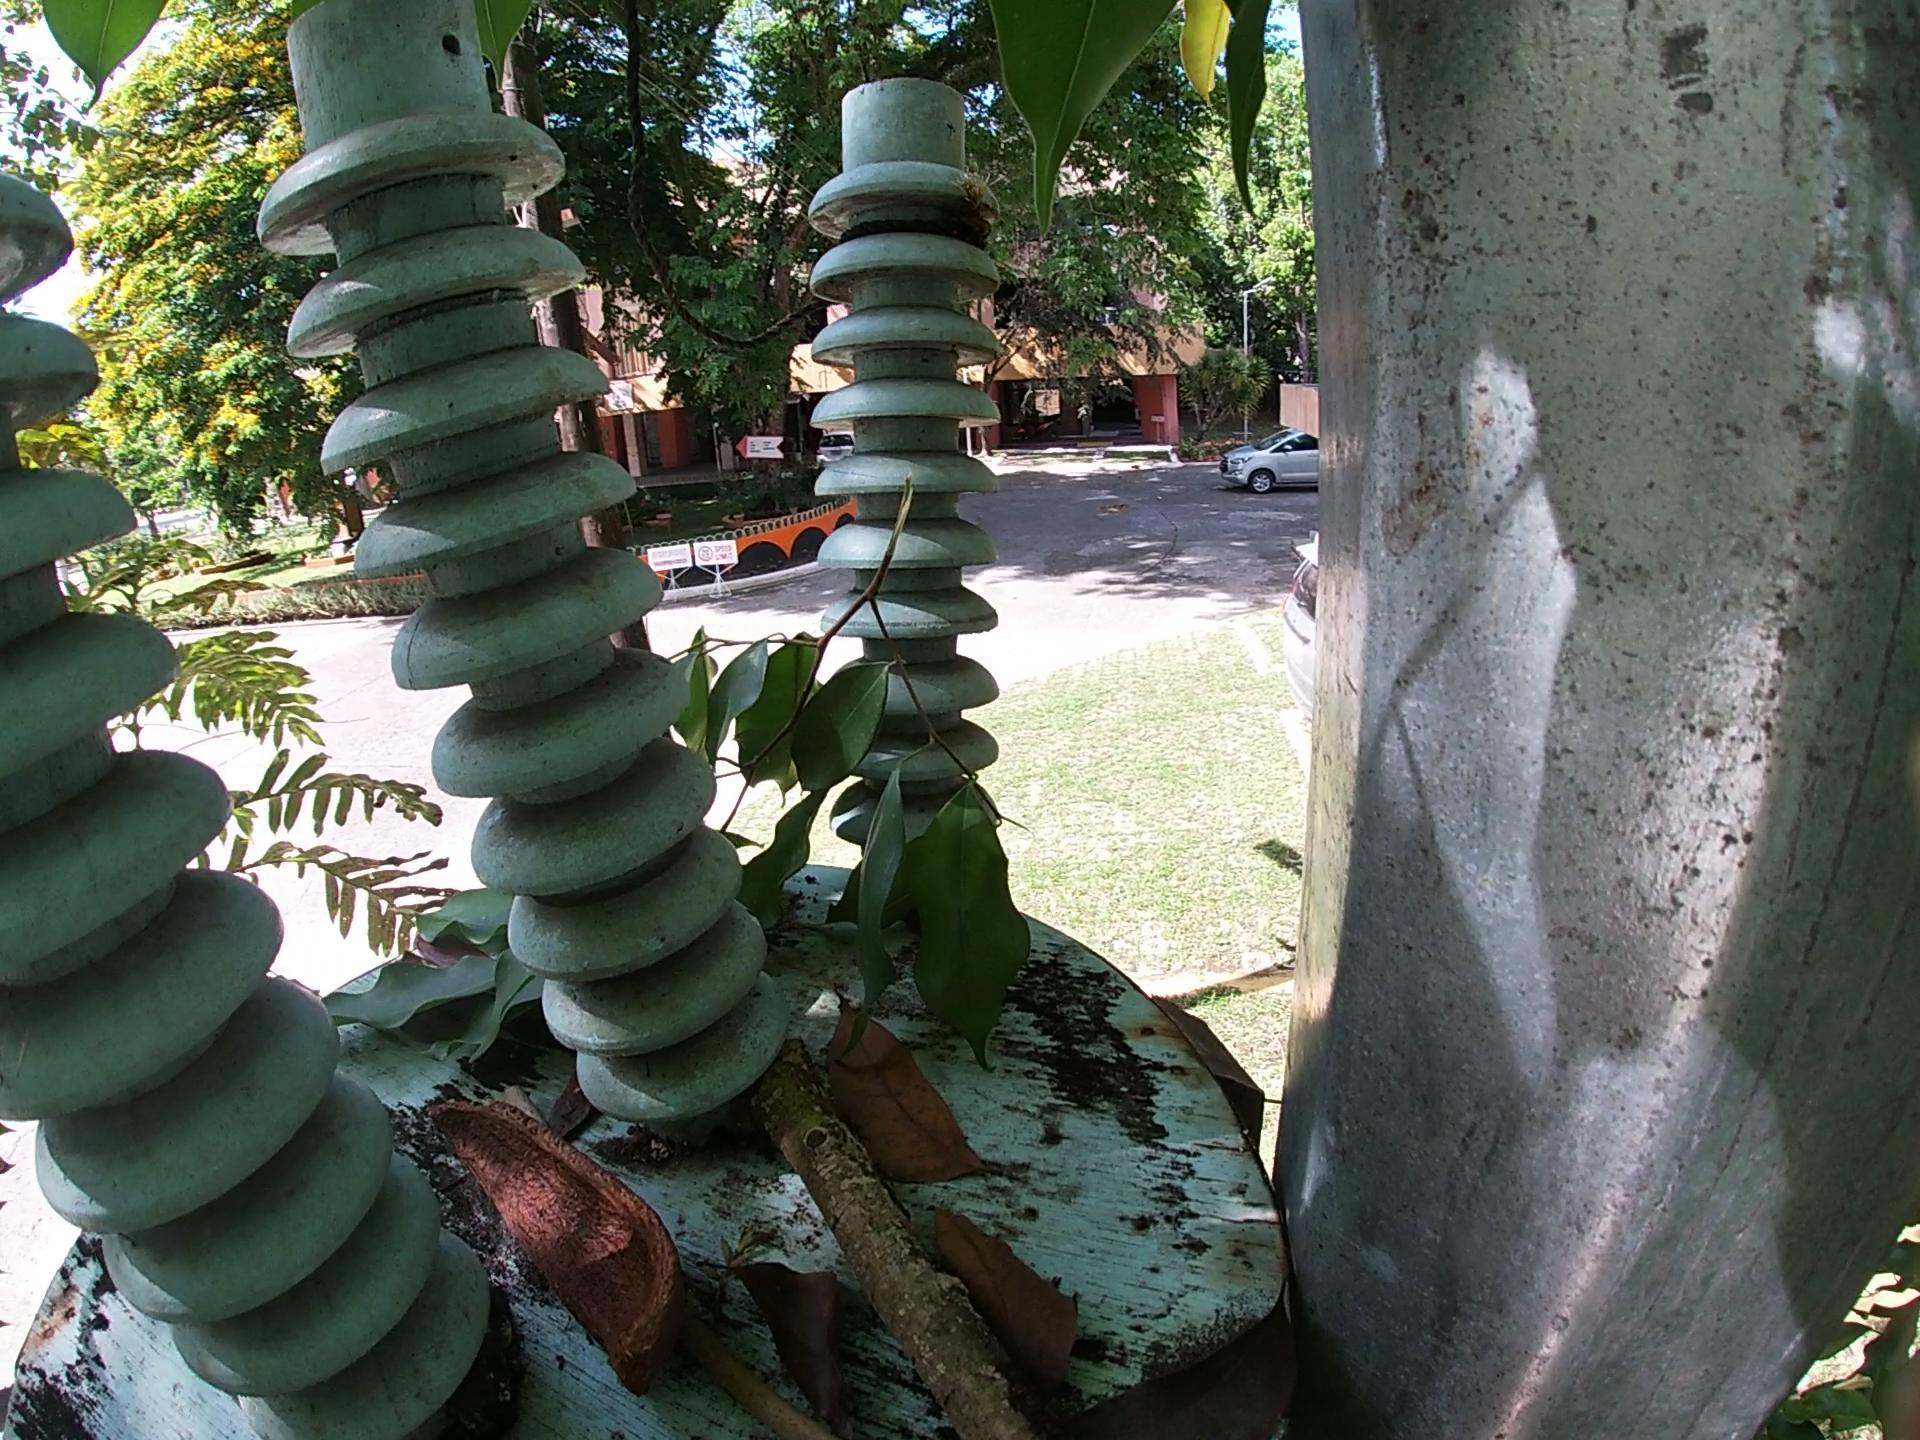branch with leaves: (667, 469, 1034, 1063)
leaf: (327, 874, 571, 1063), (822, 992, 1013, 1187), (1058, 1287, 1300, 1438), (720, 1240, 887, 1423), (931, 1201, 1082, 1401)
mahogany fruit: (414, 1092, 671, 1372)
tree branch: (756, 1071, 1045, 1440), (683, 1334, 841, 1435), (497, 1088, 558, 1134)
